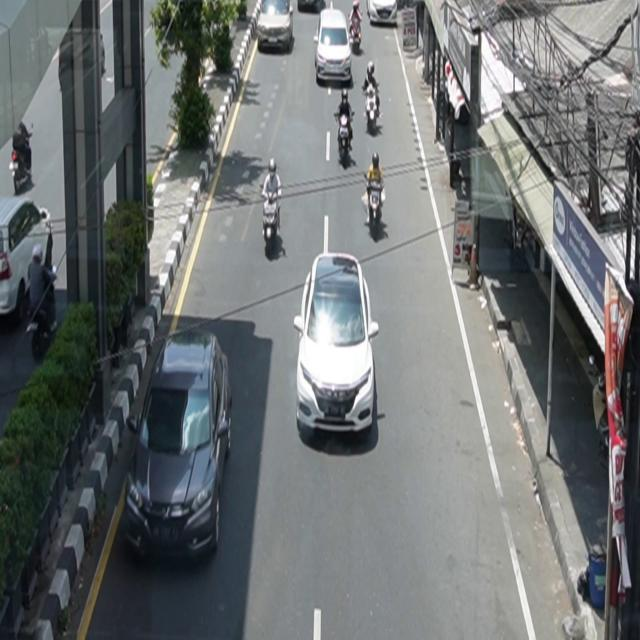car: (124, 327, 233, 565), (294, 253, 380, 439), (1, 196, 54, 326), (314, 7, 353, 87), (257, 1, 295, 53)
